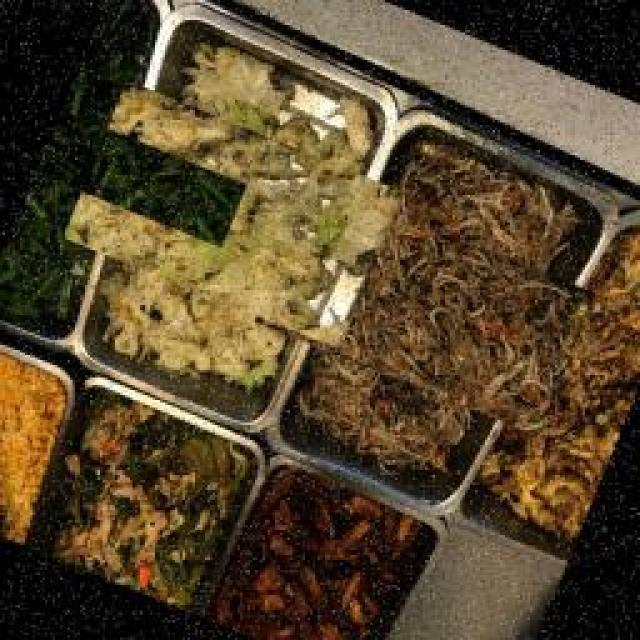chinese_cabbage: (80, 63, 385, 368)
mung_bean_sprouts: (275, 158, 575, 458)
water_spinach: (10, 47, 210, 285)
